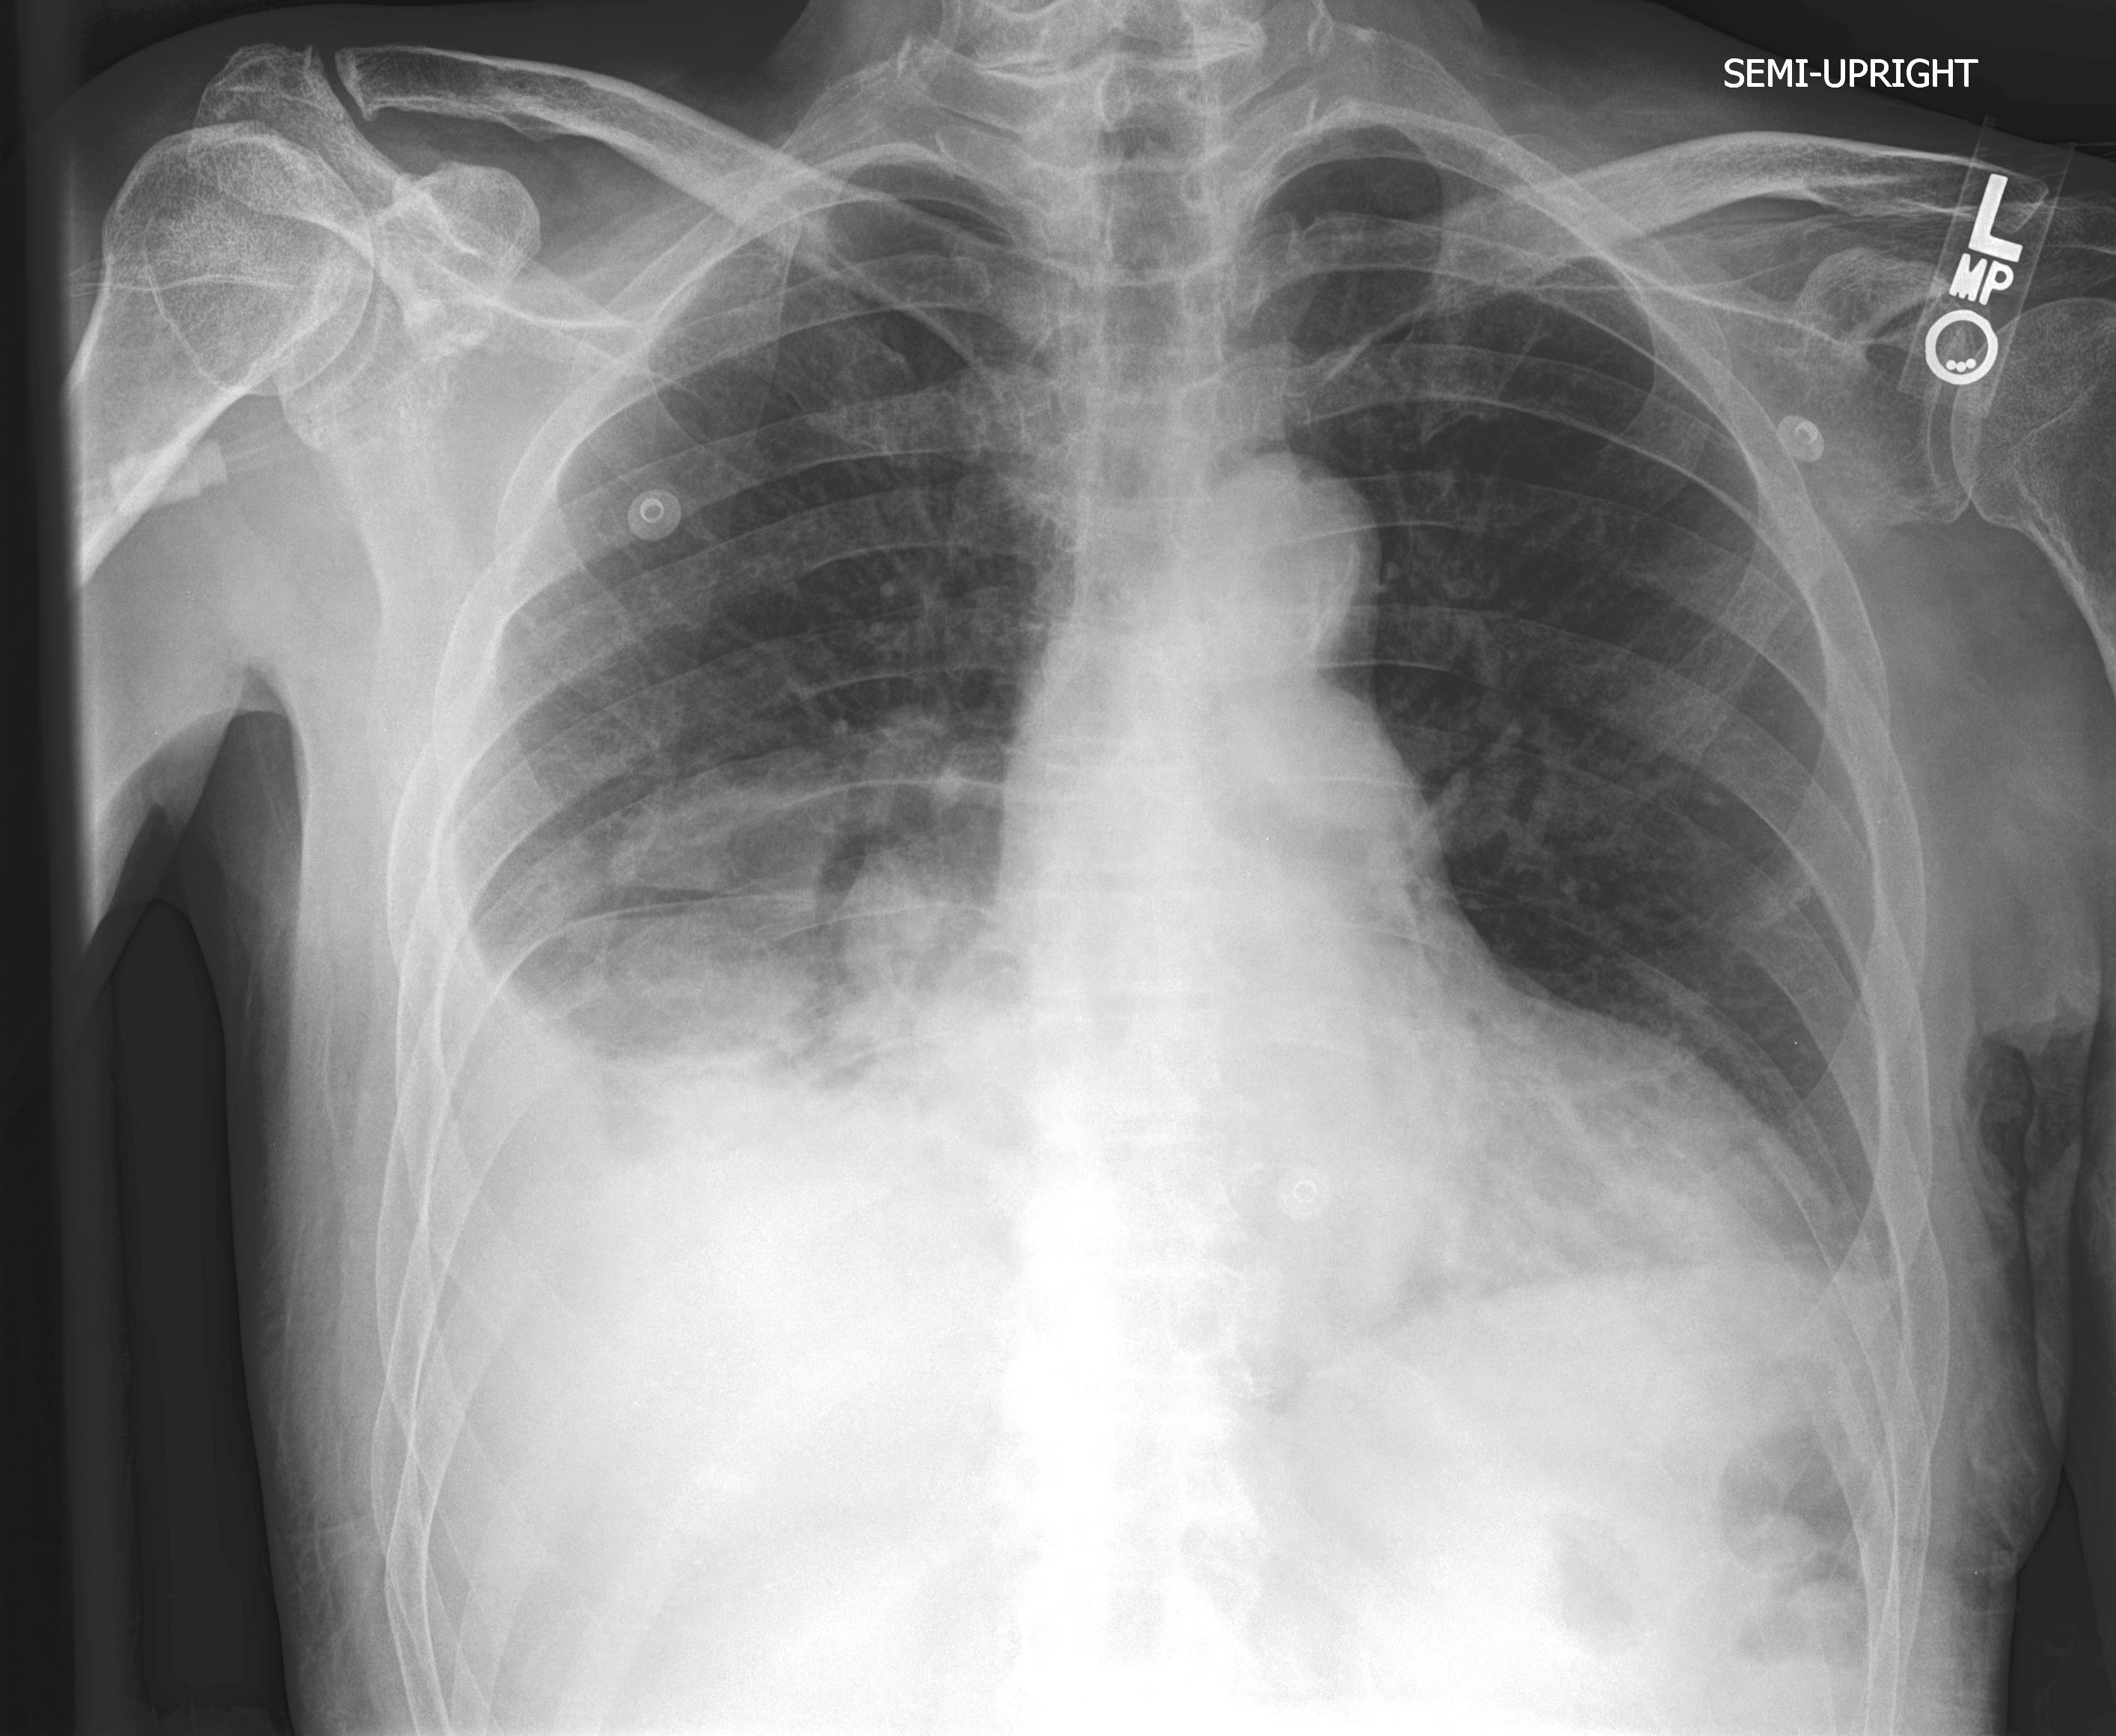Pleural Effusion: (381, 931, 884, 1443)
